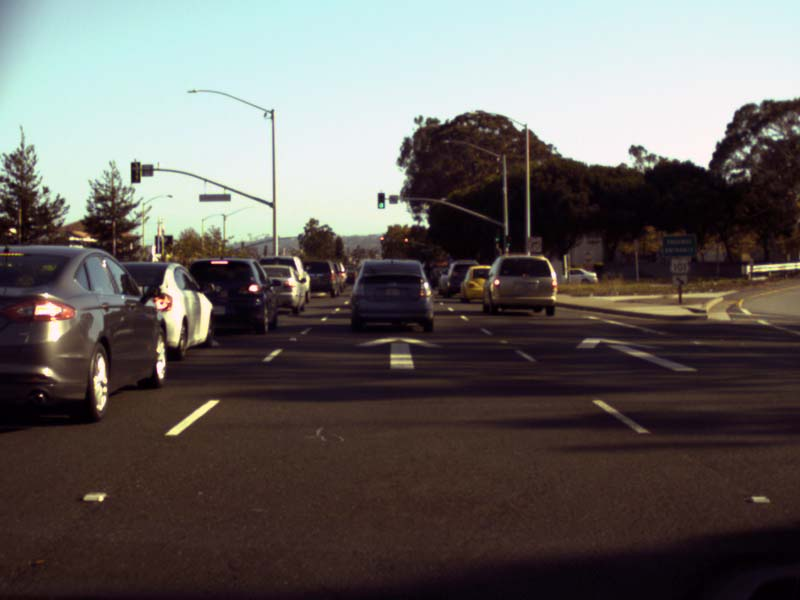Green: (377, 193, 384, 208), (493, 229, 499, 242), (505, 235, 509, 246)
Red: (379, 236, 384, 244), (404, 236, 408, 245)
